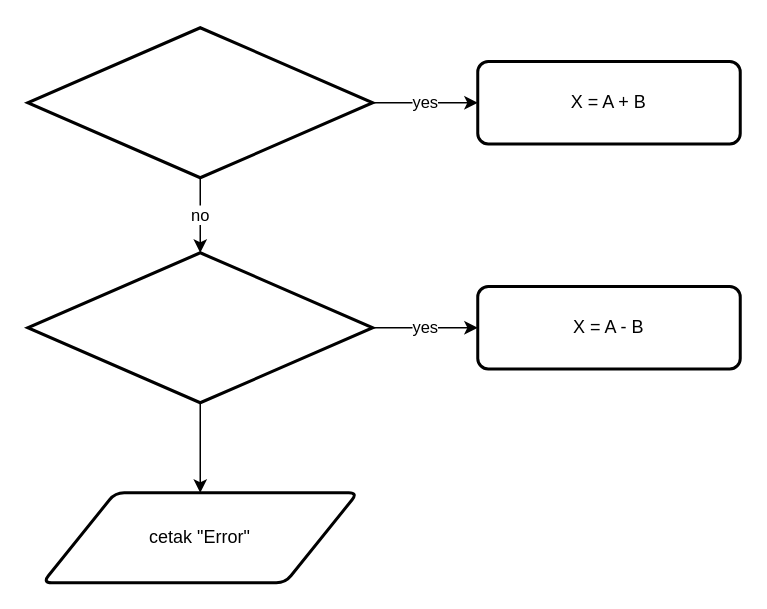
Image size: 767x609. Some labels were removed from this diagram. Here are the shapes that lost their labels. From the top down, the box of each, then its label:
(26, 26, 374, 178): IF A + B > 15 or B == 0
(26, 250, 374, 404): IF A + B < 15 or B != 0
